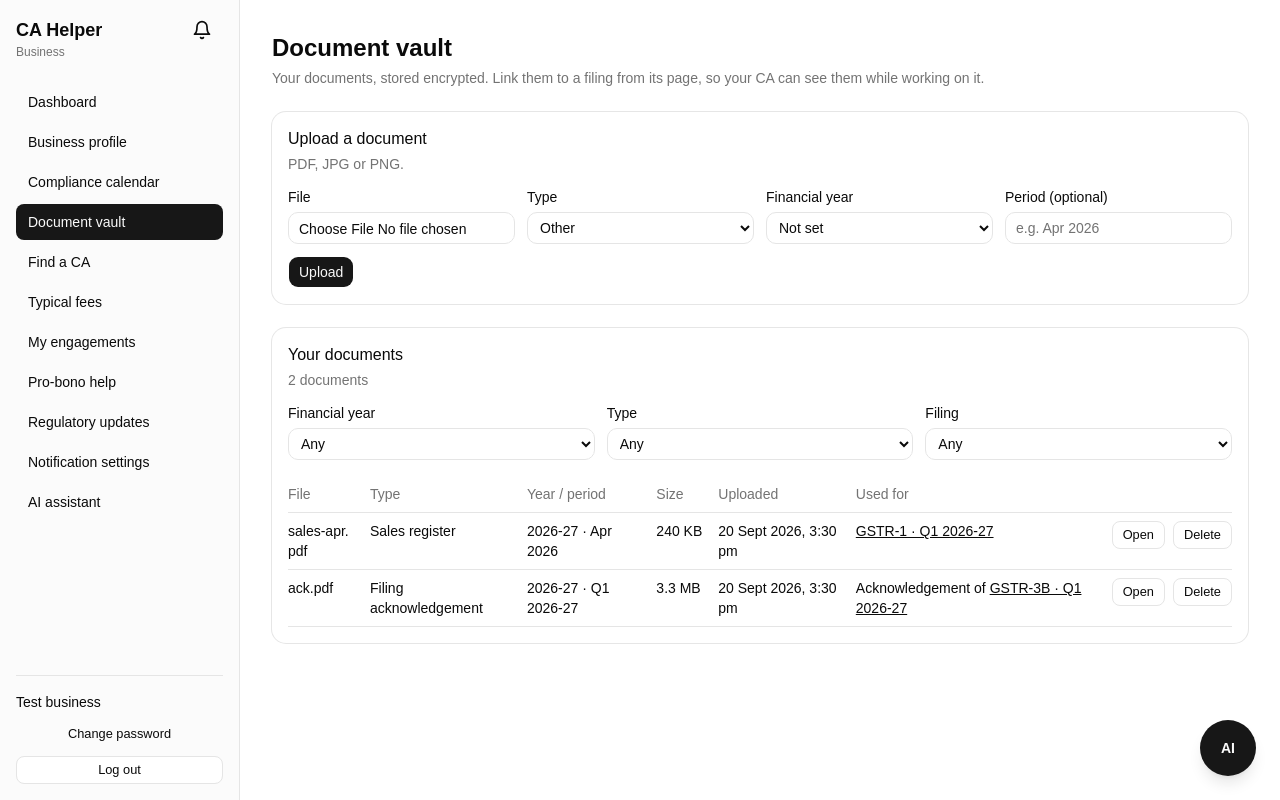
Test: document vault › asks for a file before uploading
Expected: the text "sales-apr.pdf" is shown, [288, 512, 370, 570]
Step 1. Click the button "Upload" → (321, 272), box [288, 256, 354, 288]
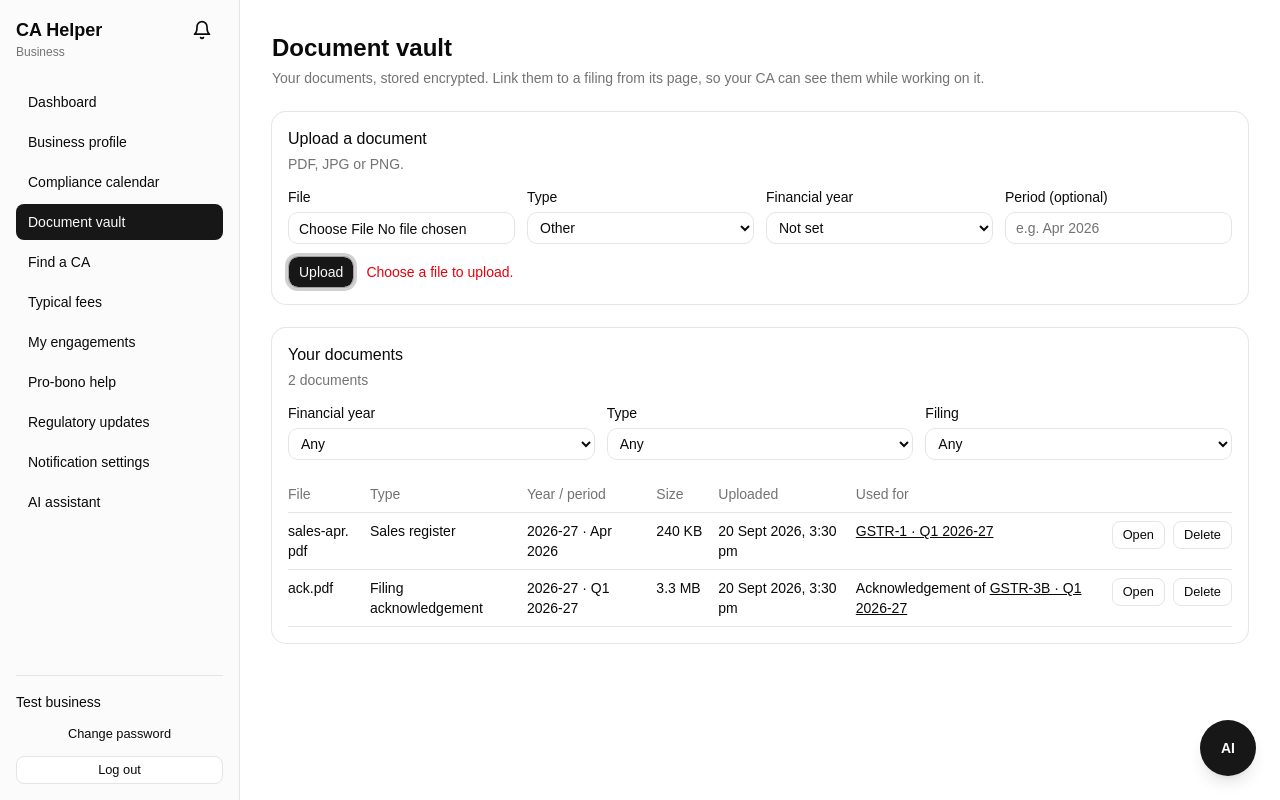
Now the text "Choose a file to upload." is shown, box [366, 262, 514, 282]
